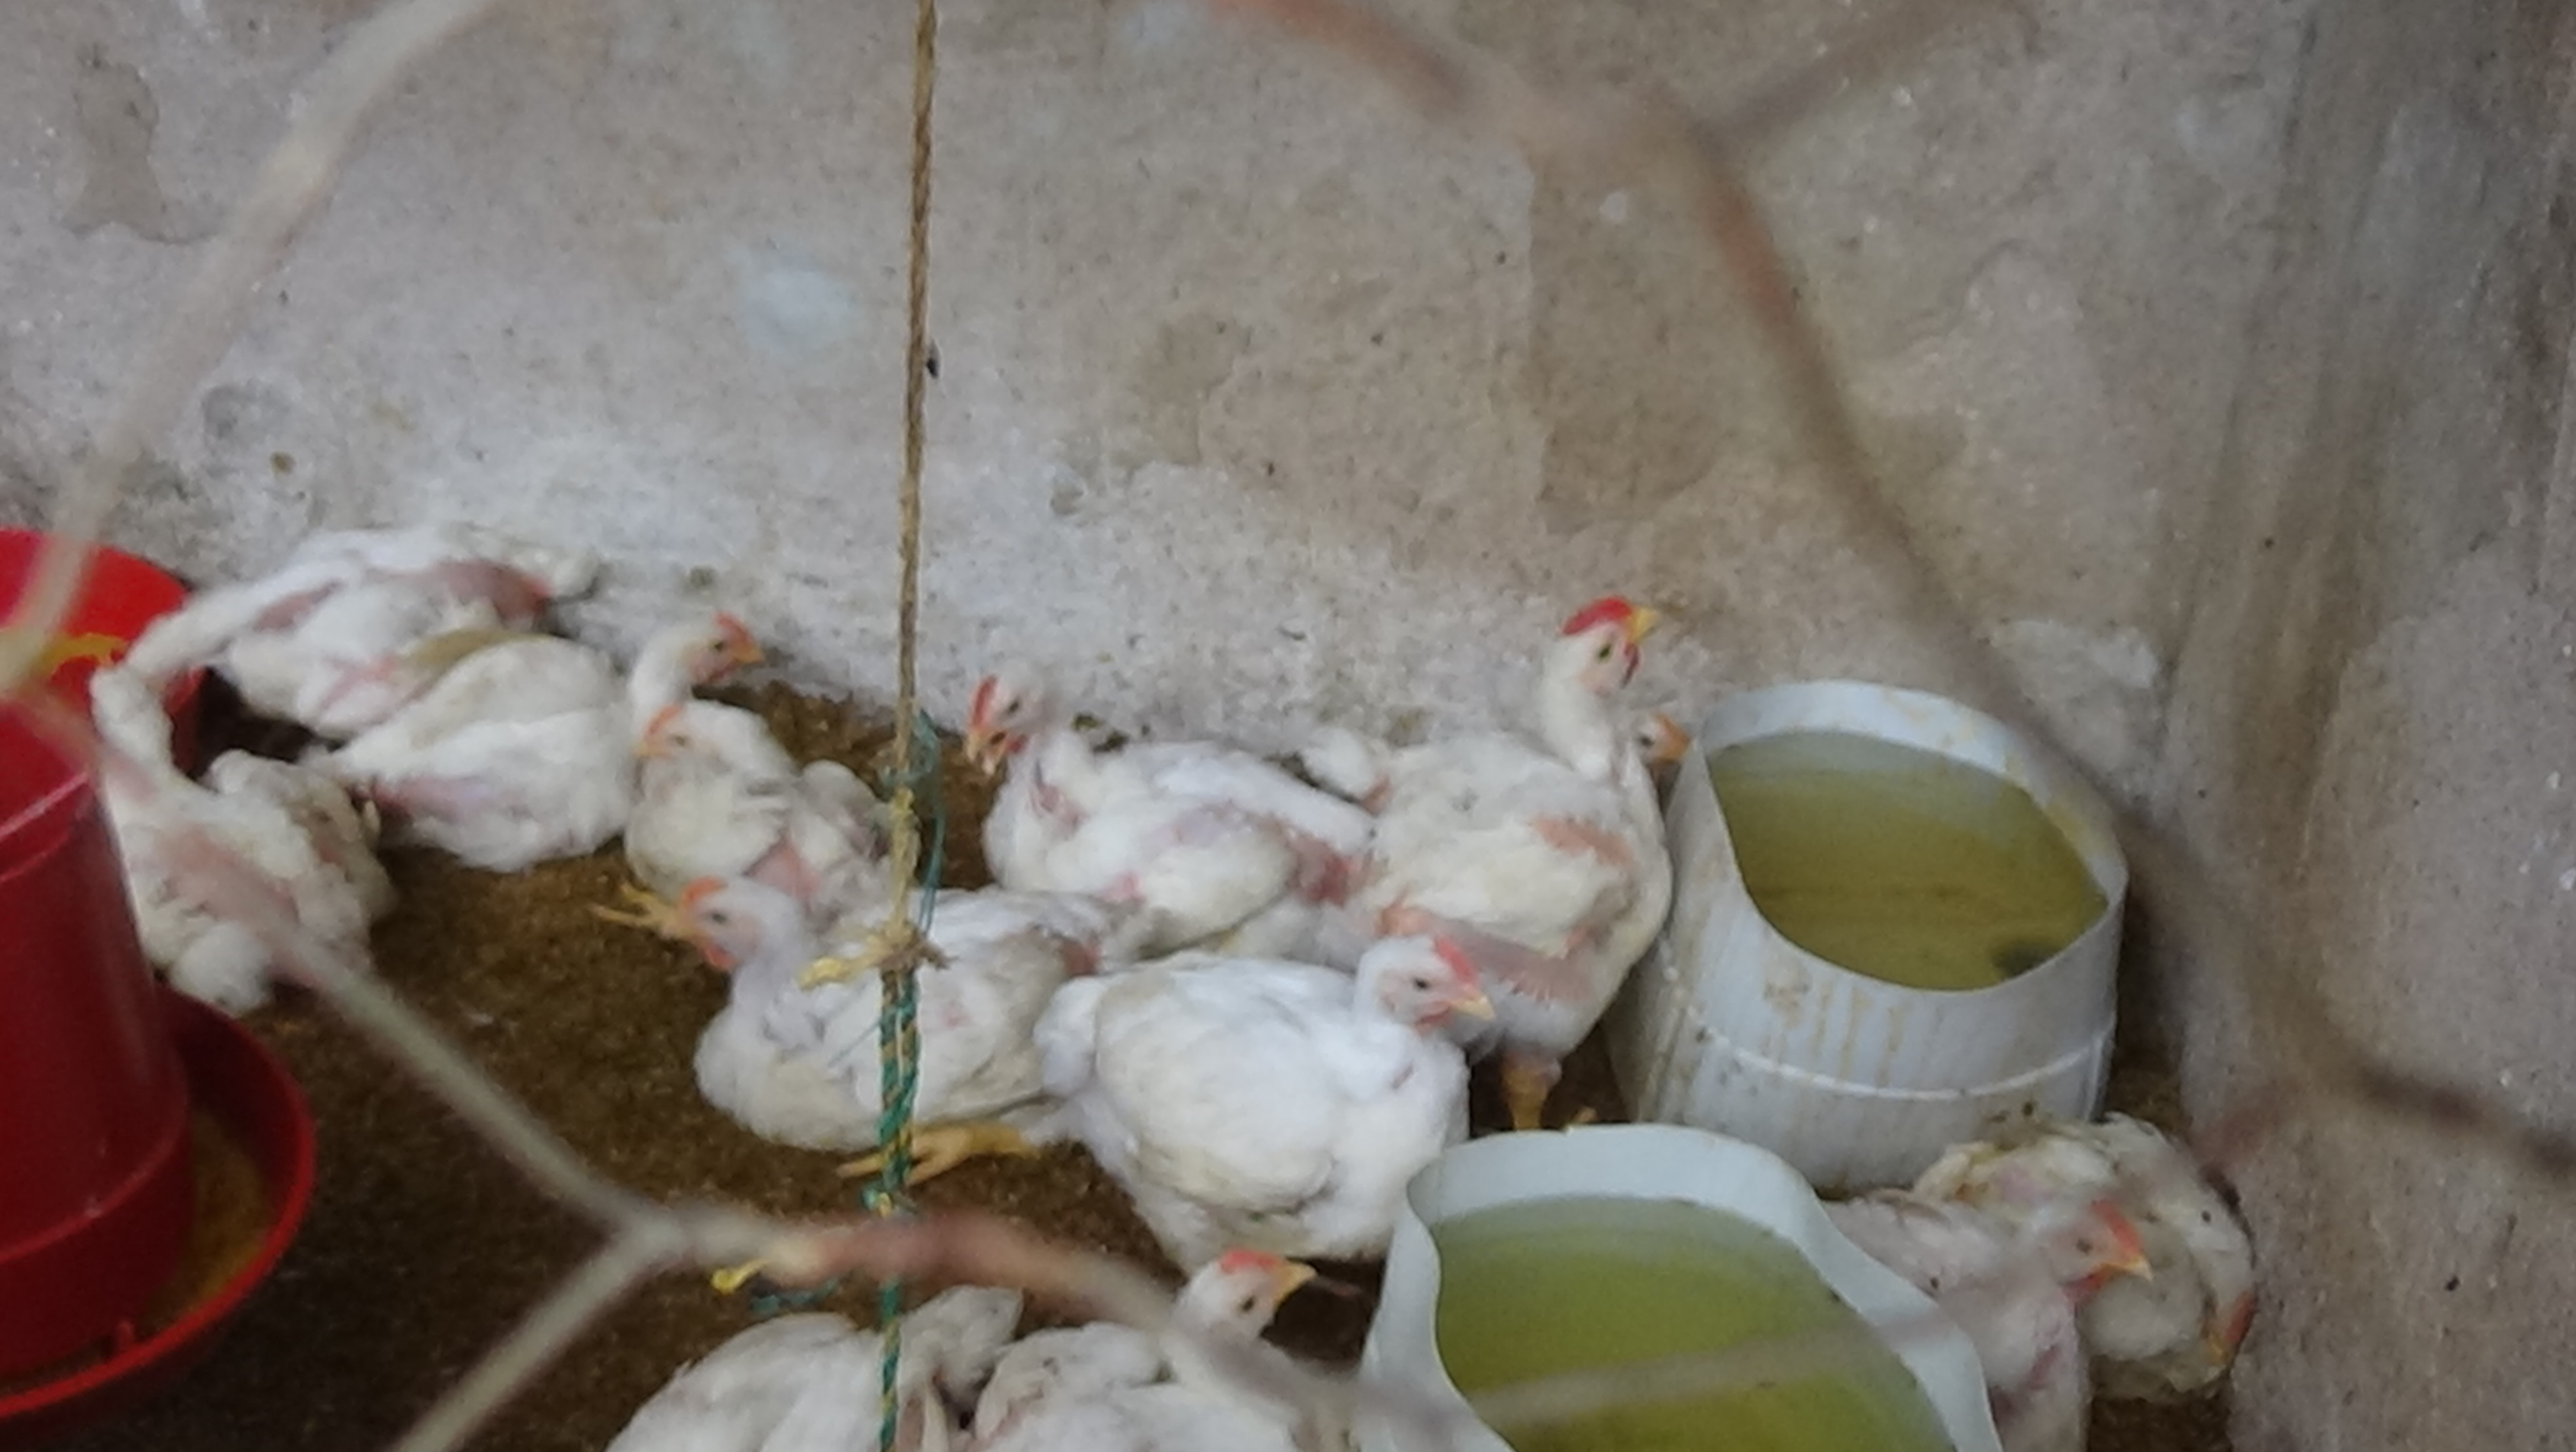Pollos: (1371, 577, 1693, 1057), (1058, 912, 1458, 1282), (948, 625, 1373, 967), (58, 650, 398, 1018), (665, 891, 1079, 1149), (1987, 1070, 2275, 1422), (326, 611, 787, 827), (1829, 1142, 2148, 1452), (131, 528, 600, 717), (961, 1236, 1350, 1452), (614, 689, 888, 935), (1608, 689, 1775, 774)
